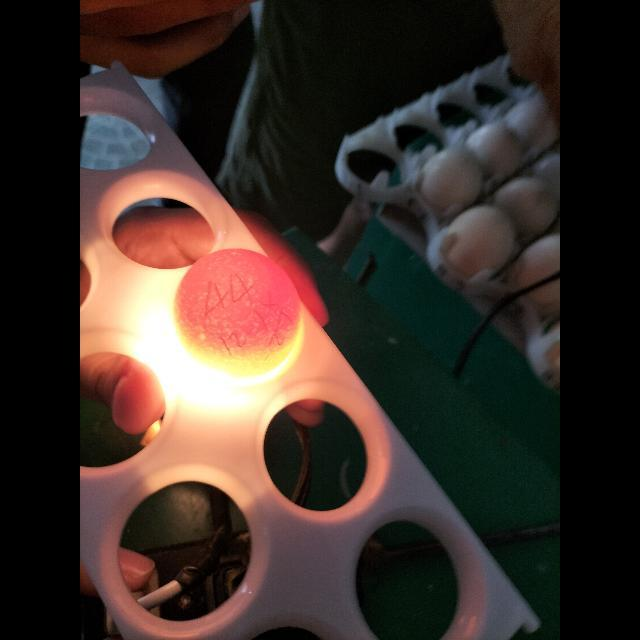Infertile: (176, 245, 300, 378)
